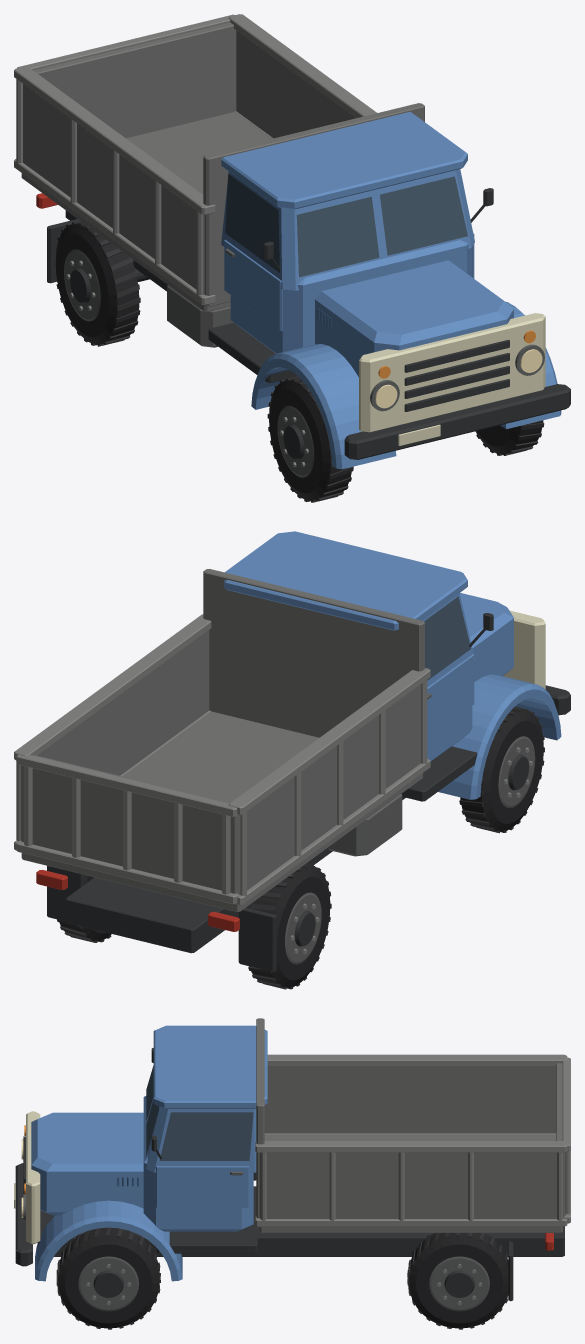
File: truck.fbx
The picture shows the model from 3 angles, top to bottom: view 1: azimuth 30°, elevation 25°; view 2: azimuth 150°, elevation 25°; view 3: azimuth 270°, elevation 25°; orthographic projection. The views are drawn at different scales.
Visible parts, largest first — view 1: TipperBody, RearLeftWheel, FrontLeftWheel, FrontRightWheel; view 2: TipperBody, FrontLeftWheel, RearLeftWheel, RearRightWheel; view 3: TipperBody, FrontRightWheel, RearRightWheel.
Boxes of the visible parts, x1,y1,x2,y2 form: TipperBody: [14, 14, 570, 469]; RearLeftWheel: [55, 221, 140, 346]; FrontLeftWheel: [267, 376, 353, 502]; FrontRightWheel: [475, 420, 544, 455]; TipperBody: [14, 531, 570, 971]; FrontLeftWheel: [459, 706, 544, 833]; RearLeftWheel: [248, 864, 331, 989]; RearRightWheel: [57, 875, 111, 942]; TipperBody: [14, 1018, 570, 1301]; FrontRightWheel: [56, 1227, 160, 1329]; RearRightWheel: [407, 1233, 508, 1329].
Bounding box in the file's own units: 2.3 × 2.62 × 5.87.
